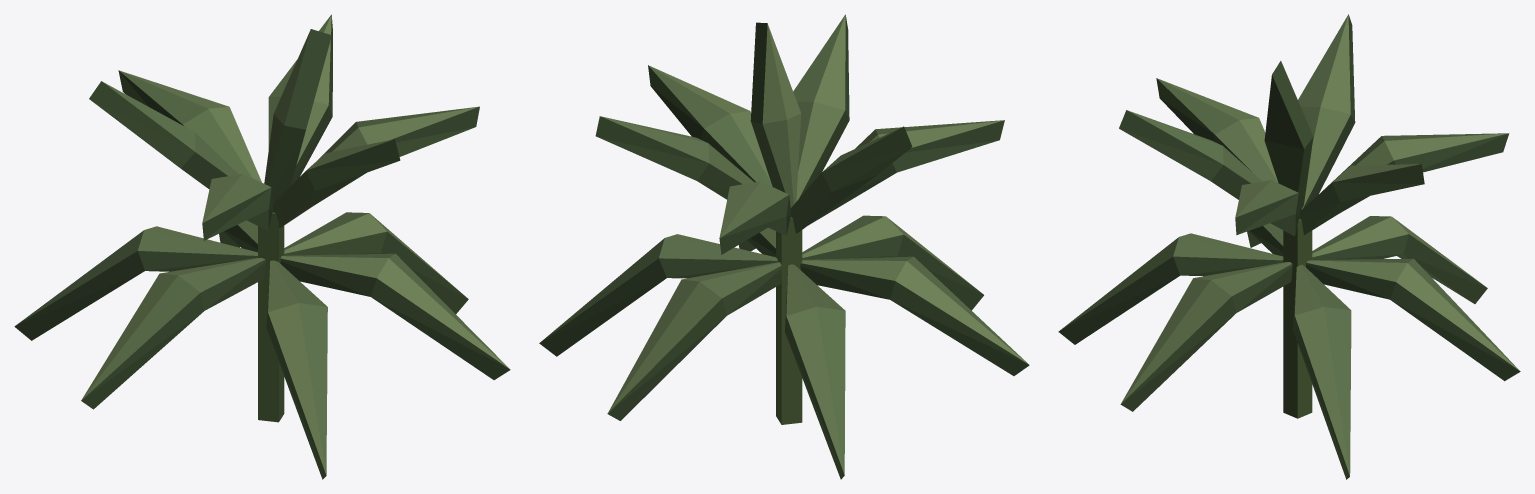
Rendered from smokeleaf.obj.
The picture shows the model from 3 angles, left to right: view 1: azimuth 30°, elevation 25°; view 2: azimuth 150°, elevation 25°; view 3: azimuth 270°, elevation 25°; orthographic projection. The views are drawn at different scales.
Visible parts, largest first — view 1: smokeleaf; view 2: smokeleaf; view 3: smokeleaf.
Boxes of the visible parts, bbox=[...] form: smokeleaf: bbox=[14, 14, 510, 479]; smokeleaf: bbox=[539, 14, 1029, 479]; smokeleaf: bbox=[1058, 14, 1520, 479].
Bounding box in the file's own units: 0.5671 × 0.4743 × 0.5423.
